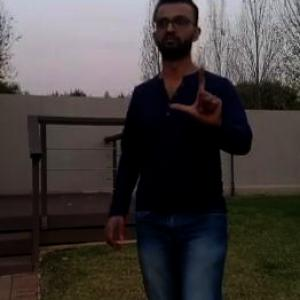land_hand: (167, 55, 226, 126)
